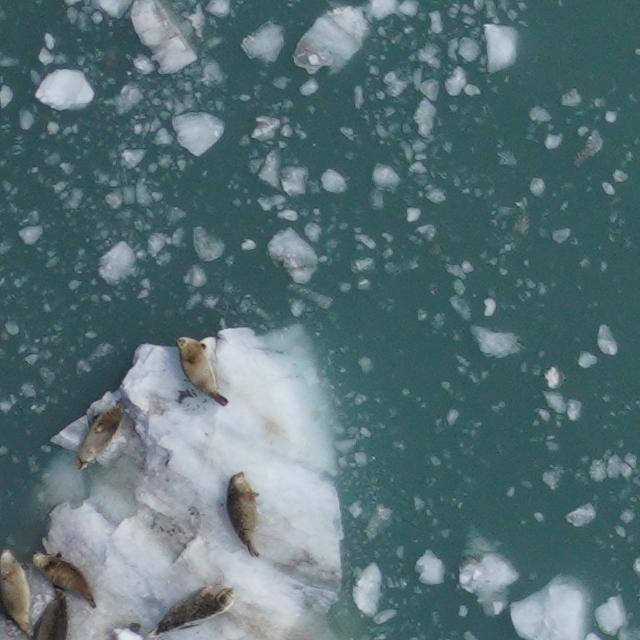seal: (145, 580, 239, 640), (172, 333, 233, 411), (27, 547, 100, 612), (72, 402, 130, 476), (0, 544, 41, 640), (224, 468, 265, 562), (24, 583, 73, 640)
